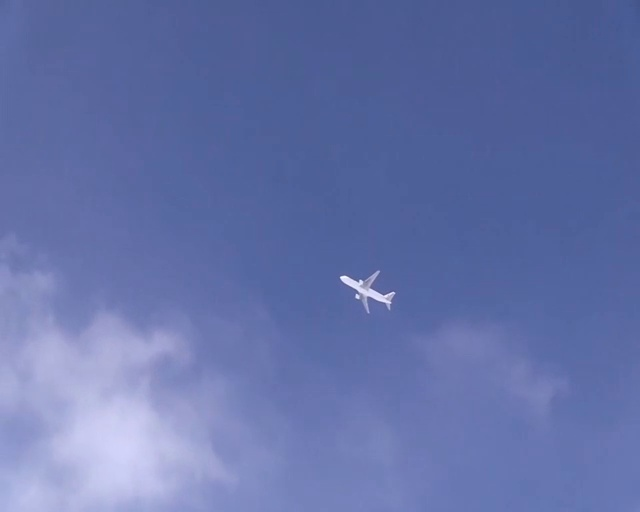AIRPLANE: (339, 269, 396, 312)
